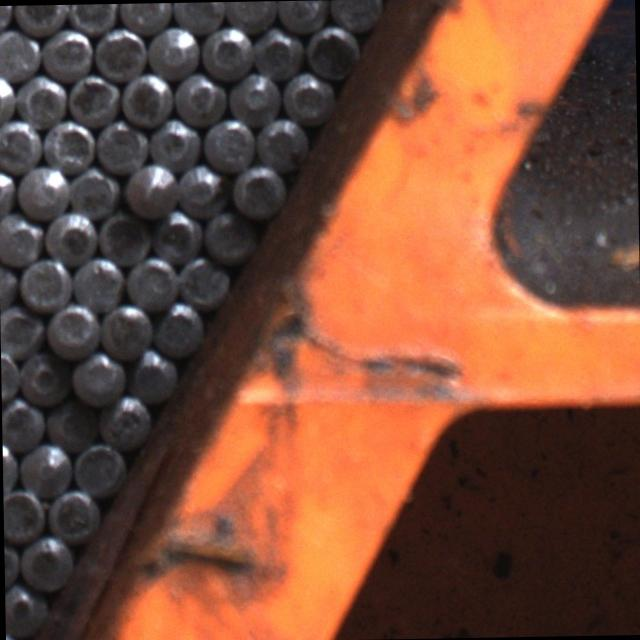tool: (18, 534, 76, 591), (176, 253, 233, 310), (96, 209, 152, 265), (93, 24, 148, 80), (97, 300, 152, 356), (228, 164, 285, 218), (255, 111, 309, 168), (118, 70, 172, 126), (70, 254, 124, 310), (304, 23, 360, 77), (150, 208, 202, 266), (122, 160, 176, 215), (70, 349, 124, 404), (41, 210, 96, 264), (199, 24, 253, 78), (66, 71, 120, 125), (202, 210, 256, 264), (99, 394, 152, 449), (73, 440, 125, 496), (94, 118, 147, 172), (146, 117, 200, 170), (46, 302, 100, 355), (202, 116, 254, 171), (14, 73, 67, 126), (173, 162, 226, 215), (18, 439, 71, 492), (42, 118, 94, 172), (18, 256, 70, 310), (124, 256, 178, 308), (47, 487, 101, 539), (128, 348, 180, 402), (152, 301, 204, 355), (14, 164, 66, 217), (172, 71, 224, 124), (39, 26, 92, 78), (146, 23, 198, 76), (68, 165, 120, 218), (228, 66, 280, 118), (17, 350, 69, 402), (44, 398, 96, 450), (252, 24, 304, 76), (282, 71, 332, 122), (0, 301, 44, 353), (1, 396, 44, 449), (0, 211, 42, 264), (3, 487, 43, 542), (4, 582, 46, 634), (0, 118, 39, 171), (0, 27, 39, 79), (12, 4, 65, 36), (170, 1, 224, 32), (276, 0, 328, 32), (120, 2, 172, 32), (66, 4, 118, 34), (330, 0, 382, 29), (226, 1, 276, 30)
